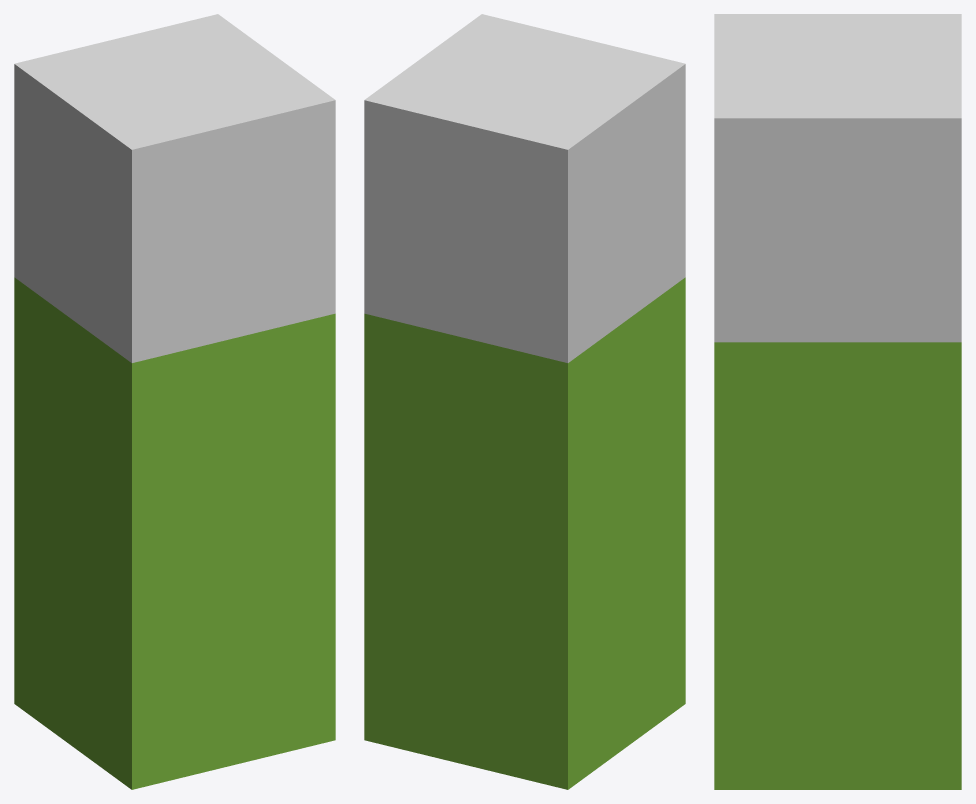
File: Flask_for_Texturing-3.obj
The picture shows the model from 3 angles, left to right: view 1: azimuth 30°, elevation 25°; view 2: azimuth 150°, elevation 25°; view 3: azimuth 270°, elevation 25°; orthographic projection. The views are drawn at different scales.
Size of the model in its own units: 0.1 by 0.3 by 0.1.
Materials: 1 (1 with a texture image).
